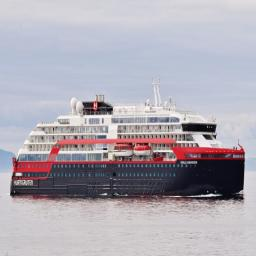cruises: (10, 82, 248, 203)
